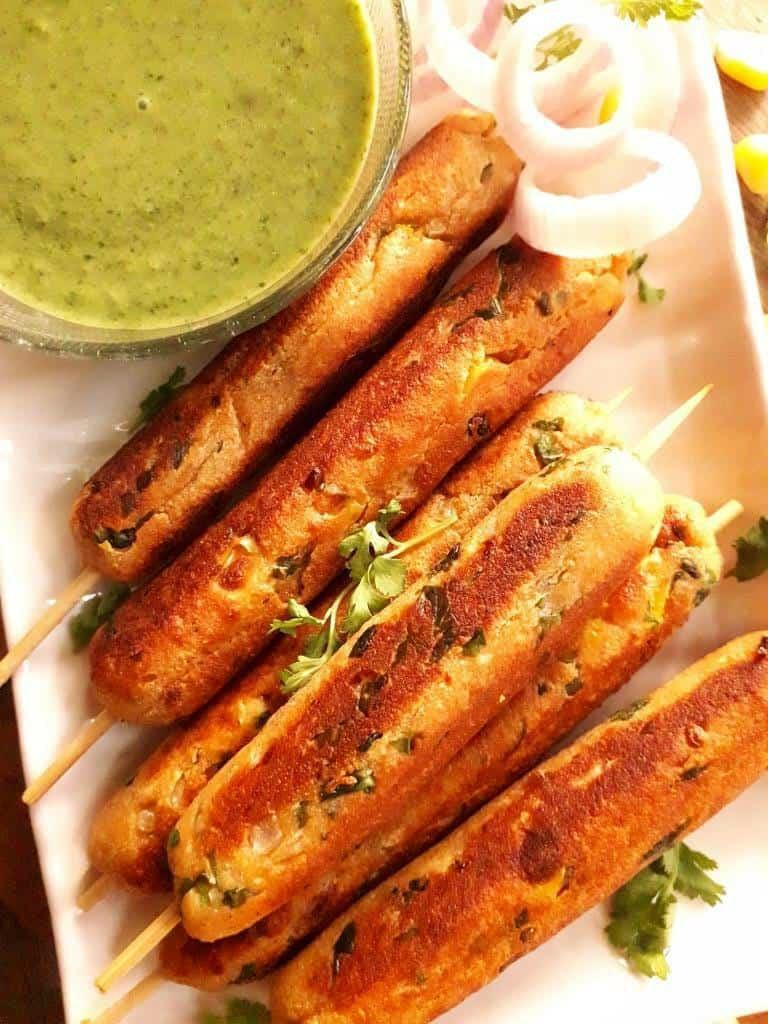GreenChutney: (0, 0, 382, 333)
Kebab: (158, 496, 721, 987), (91, 392, 634, 901), (86, 231, 630, 727), (166, 444, 662, 942), (69, 111, 528, 588), (270, 630, 768, 1024)
